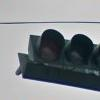traffic lights: (25, 29, 100, 72)
